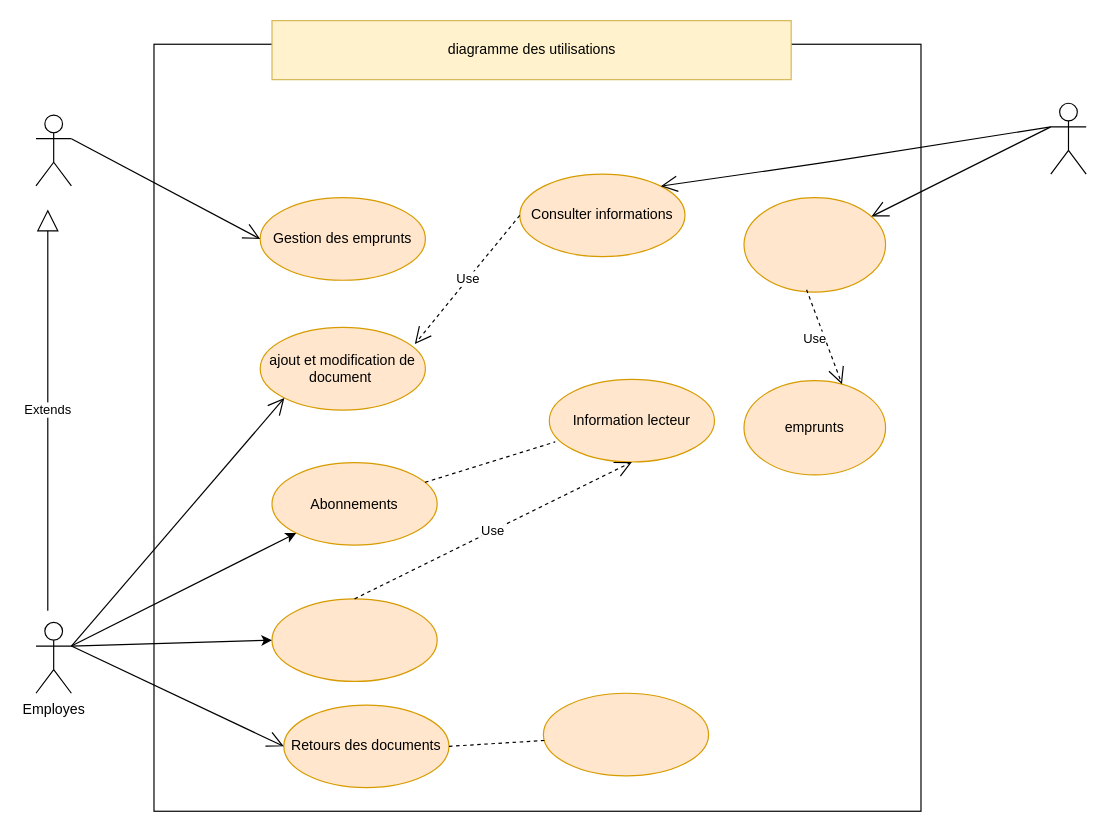
Some shapes in this 1120 by 832 pixel diagram are drawn without their labels. Each missing label, with the box of its shape:
Benevoles: (35, 114, 71, 186)
carte de lecteur: (743, 196, 886, 292)
Relances: (271, 598, 437, 681)
supprimer documents endommagés: (542, 692, 709, 776)
Utilisateur: (1050, 102, 1086, 174)
